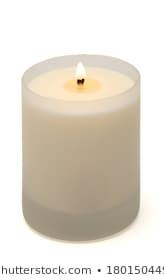fire: (73, 60, 87, 81)
